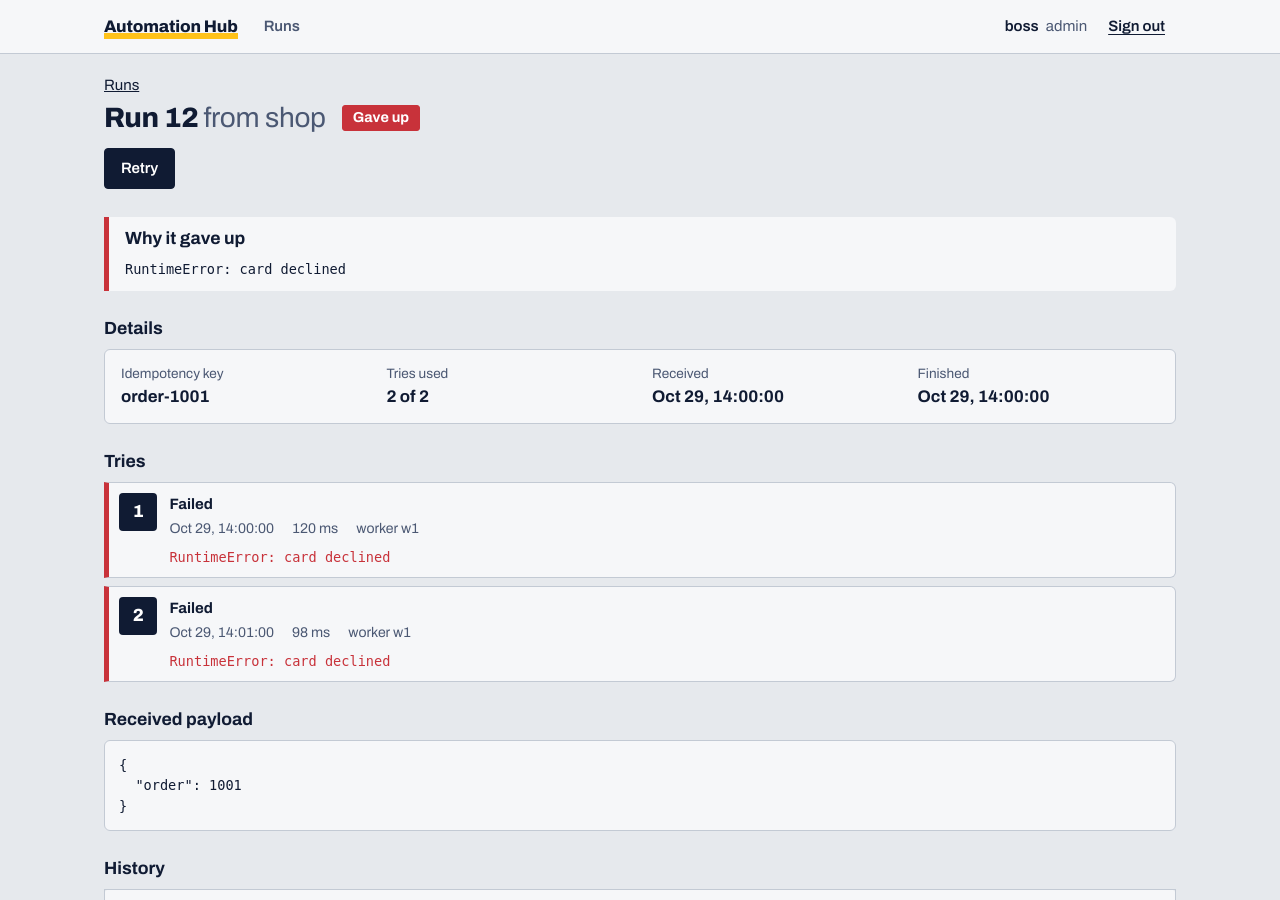
Test: run detail › lets an admin retry a run that gave up, and says what happened
Click the button "Retry".
click(140, 168)  # box x1=104 y1=148 x2=175 y2=189
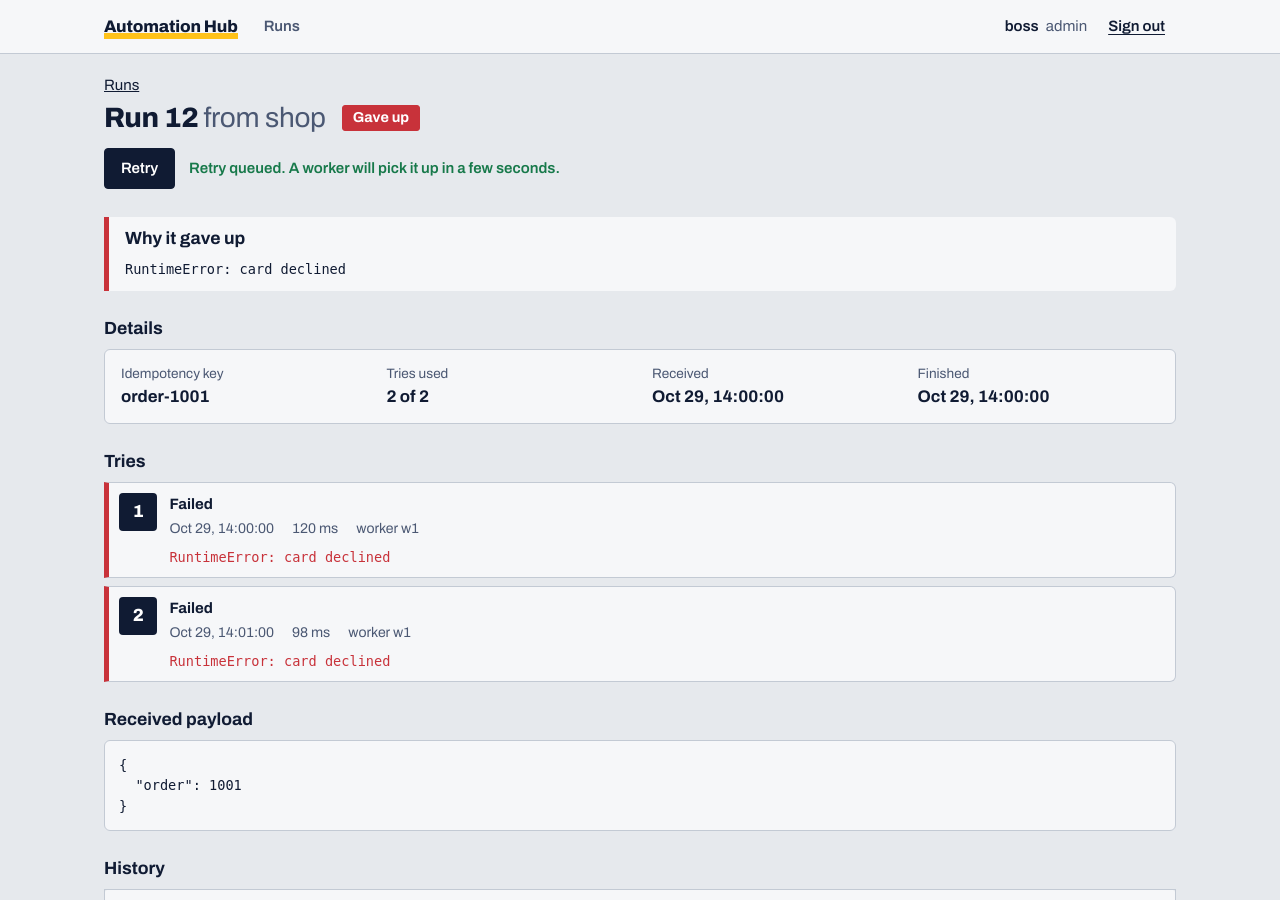
Check: the text "Retry queued. A worker will pick it up in a few seconds." is shown, box x1=189 y1=157 x2=560 y2=180
